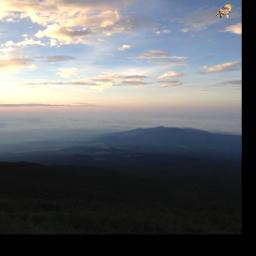Sparrow: (214, 3, 232, 19)
